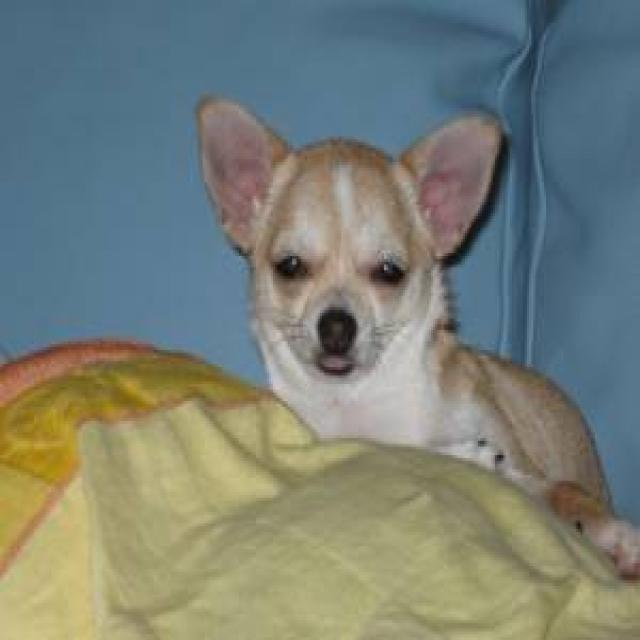dog-chihuahua: (181, 88, 636, 586)
